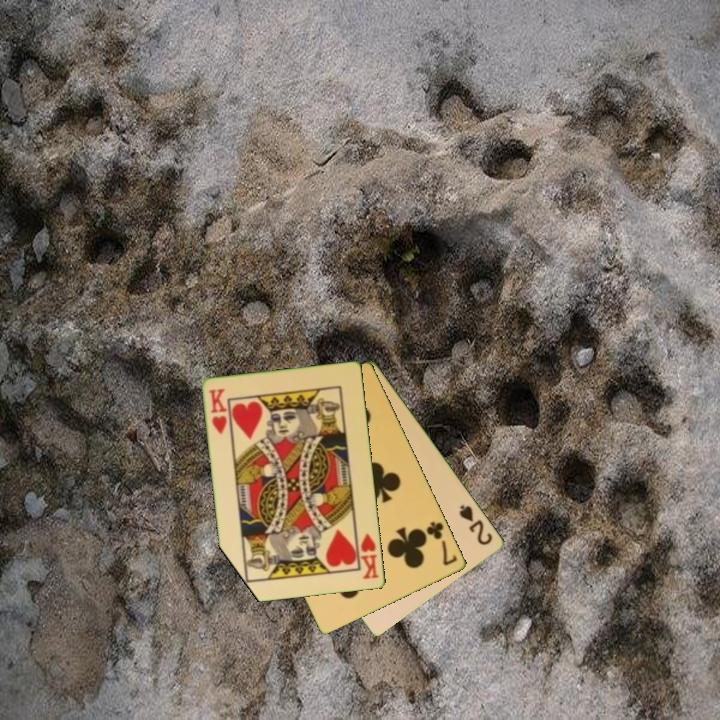2s: (456, 501, 496, 548)
7c: (423, 518, 460, 569)
Kh: (353, 528, 382, 582), (206, 385, 230, 438)
